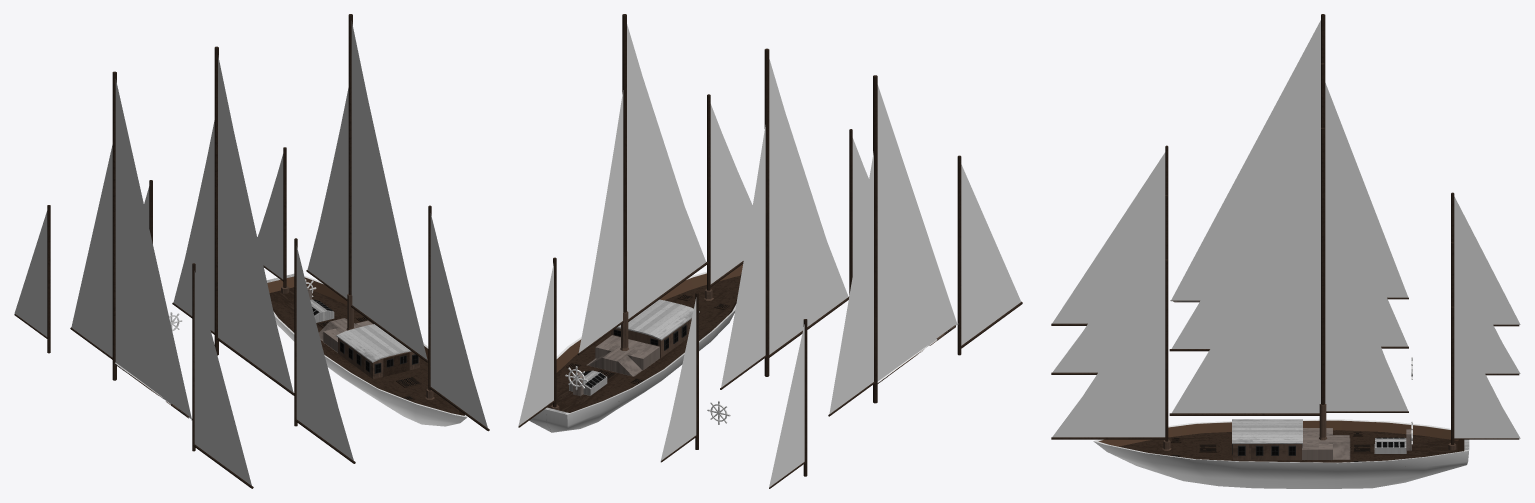
Rendered from Boat.fbx.
3 views of the same model, side by side, from view 1: azimuth 30°, elevation 25°; view 2: azimuth 150°, elevation 25°; view 3: azimuth 270°, elevation 25° (orthographic). The views are drawn at different scales.
Visible parts, largest first — view 1: SailCloth.004, SailCloth, SailCloth.002, Boat.LOD0, Plane.008, Plane.003, Plane.005, Plane.011, Plane.010, Plane.007, SailCloth.005, Plane.006 (+9 smaller); view 2: Boat.LOD0, SailCloth.004, SailCloth.002, SailCloth, Plane.008, Plane.011, Plane.010, Plane.007, Plane.005, SailCloth.005, SailCloth.003, Plane.006 (+11 smaller); view 3: SailCloth, Boat.LOD0, Plane.005, Plane.010, SailCloth.002, SailCloth.004, Plane.003, Plane.008, Plane.007, Plane.006, Plane.011, SailCloth.003 (+5 smaller).
Part boxes in pixels (bbox=[...]): SailCloth.004: bbox=[115, 79, 191, 418]; SailCloth: bbox=[351, 21, 427, 359]; SailCloth.002: bbox=[218, 55, 293, 392]; Boat.LOD0: bbox=[266, 273, 467, 426]; Plane.008: bbox=[194, 271, 251, 485]; Plane.003: bbox=[296, 246, 353, 460]; Plane.005: bbox=[430, 213, 487, 428]; Plane.011: bbox=[71, 145, 112, 357]; Plane.010: bbox=[307, 88, 348, 298]; Plane.007: bbox=[173, 120, 214, 332]; SailCloth.005: bbox=[14, 211, 47, 336]; Plane.006: bbox=[257, 154, 283, 279]; Boat.LOD0: bbox=[529, 264, 742, 432]; SailCloth.004: bbox=[877, 85, 957, 381]; SailCloth.002: bbox=[769, 59, 848, 354]; SailCloth: bbox=[627, 24, 705, 318]; Plane.008: bbox=[961, 164, 1021, 345]; Plane.011: bbox=[829, 151, 873, 413]; Plane.010: bbox=[578, 90, 623, 352]; Plane.007: bbox=[721, 125, 765, 387]; Plane.005: bbox=[710, 104, 752, 284]; SailCloth.005: bbox=[769, 324, 804, 487]; SailCloth.003: bbox=[660, 297, 696, 461]; Plane.006: bbox=[518, 263, 553, 426]; SailCloth: bbox=[1172, 134, 1320, 413]; Boat.LOD0: bbox=[1093, 404, 1469, 488]; Plane.005: bbox=[1052, 266, 1165, 437]; Plane.010: bbox=[1325, 196, 1407, 411]; SailCloth.002: bbox=[1171, 69, 1320, 348]; SailCloth.004: bbox=[1171, 20, 1320, 301]; Plane.003: bbox=[1052, 202, 1165, 372]; Plane.008: bbox=[1052, 152, 1165, 323]; Plane.007: bbox=[1325, 132, 1408, 346]; Plane.006: bbox=[1454, 310, 1520, 438]; Plane.011: bbox=[1325, 83, 1408, 297]; SailCloth.003: bbox=[1454, 246, 1520, 373].
Size of what is drawn, in the model's own units: 7191 by 8871 by 10465.
